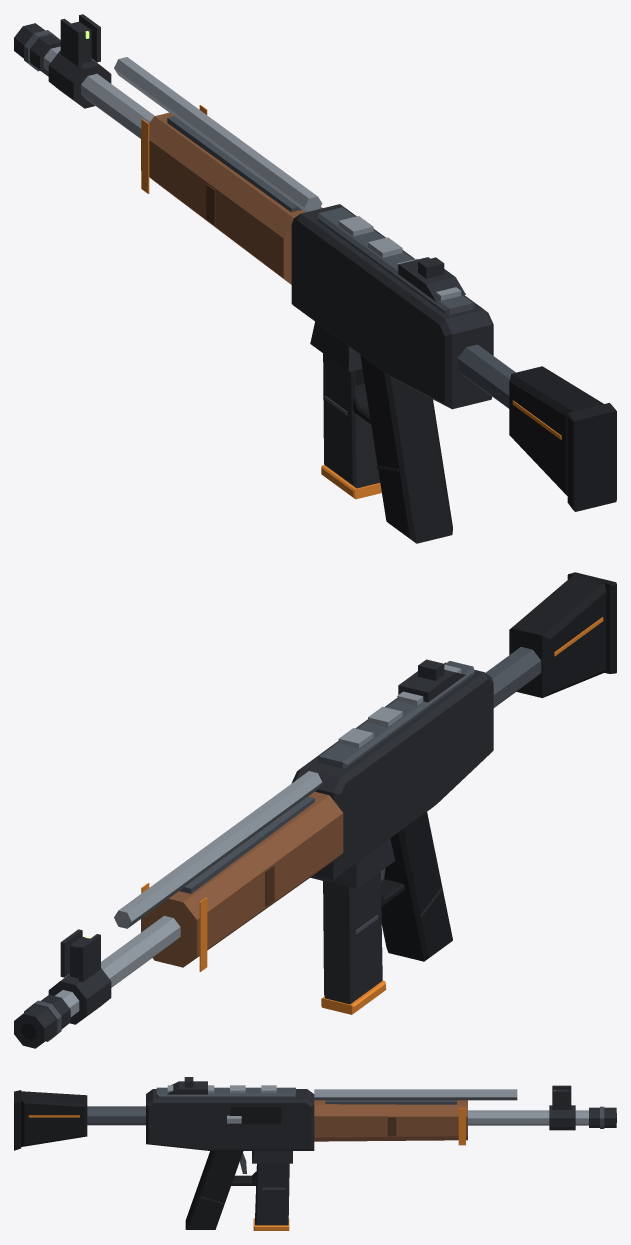
The model's file is carbine.glb.
The picture shows the model from 3 angles, top to bottom: view 1: azimuth 30°, elevation 25°; view 2: azimuth 150°, elevation 25°; view 3: azimuth 270°, elevation 25°; orthographic projection. The views are drawn at different scales.
Parts seen in each view (by area): view 1: Body, Magazine; view 2: Body, Magazine; view 3: Body, Magazine.
Part boxes in pixels (<box>): Body: <box>14,14,616,543</box>; Magazine: <box>321,353,381,499</box>; Body: <box>14,572,616,1048</box>; Magazine: <box>321,872,386,1014</box>; Body: <box>14,1077,616,1229</box>; Magazine: <box>253,1163,289,1230</box>.
Size of the model in its own units: 0.0551 by 0.2225 by 0.8233.
